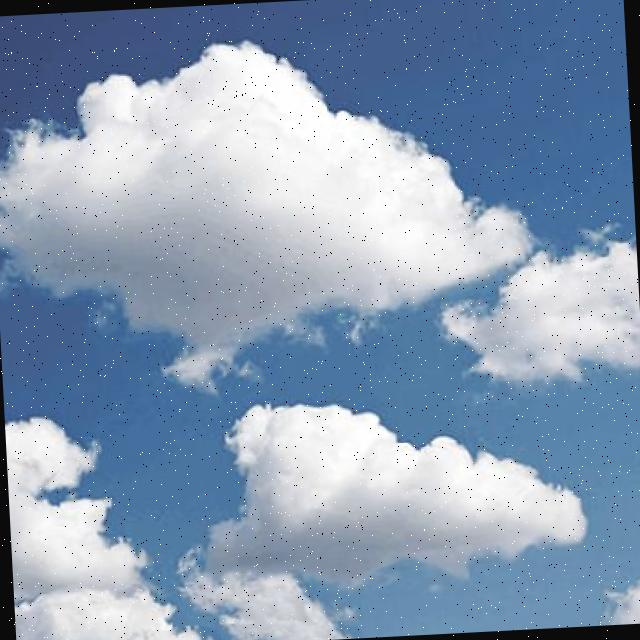Cu: (1, 7, 640, 640)
